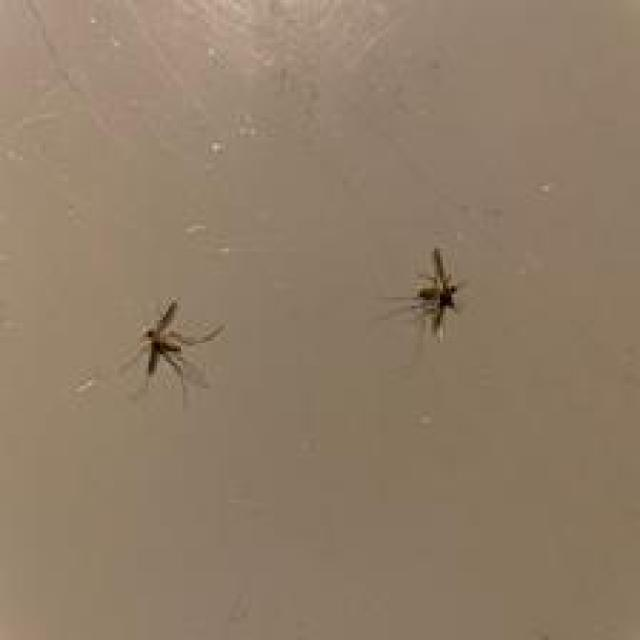Culex: (117, 297, 226, 406)
